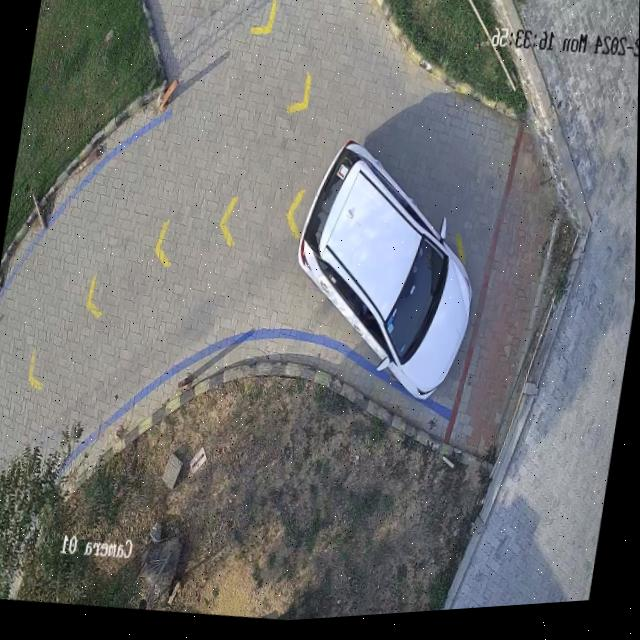car: (299, 147, 473, 407)
